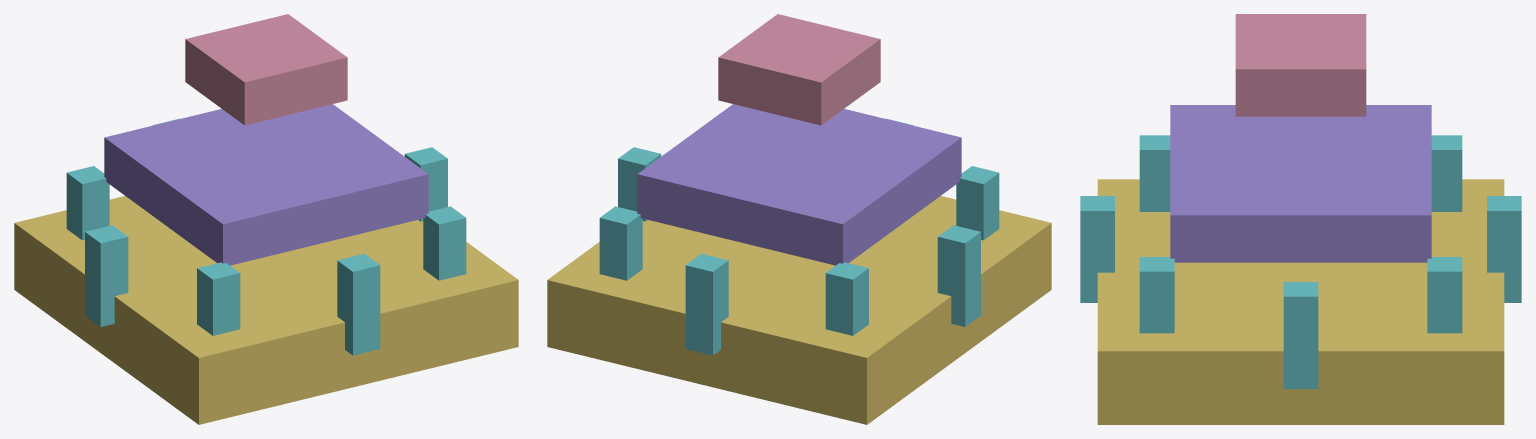
File: study-wheel.glb
3 views of the same model, side by side, from view 1: azimuth 30°, elevation 25°; view 2: azimuth 150°, elevation 25°; view 3: azimuth 270°, elevation 25° (orthographic). The views are drawn at different scales.
Visible parts, largest first — view 1: original; view 2: original; view 3: original.
Boxes of the visible parts, <box> form: original: <box>14,14,518,424</box>; original: <box>547,14,1051,424</box>; original: <box>1080,14,1521,424</box>.
Bounding box in the file's own units: 1.52 × 1.13 × 1.52.
